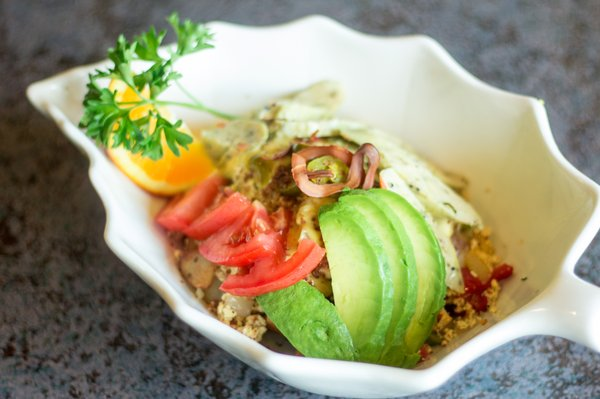sushi: (30, 8, 582, 393)
